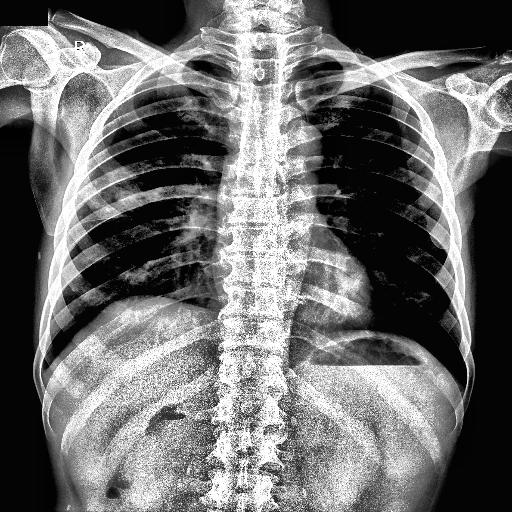0- Aortic enlargement: (264, 119, 324, 175)
11- Pleural thickening: (141, 60, 242, 76)
6- Infiltration: (81, 163, 160, 220), (83, 159, 147, 212), (91, 170, 152, 218)
7- Lung Opacity: (81, 163, 160, 220)
9- Other lesion: (64, 283, 172, 347)
